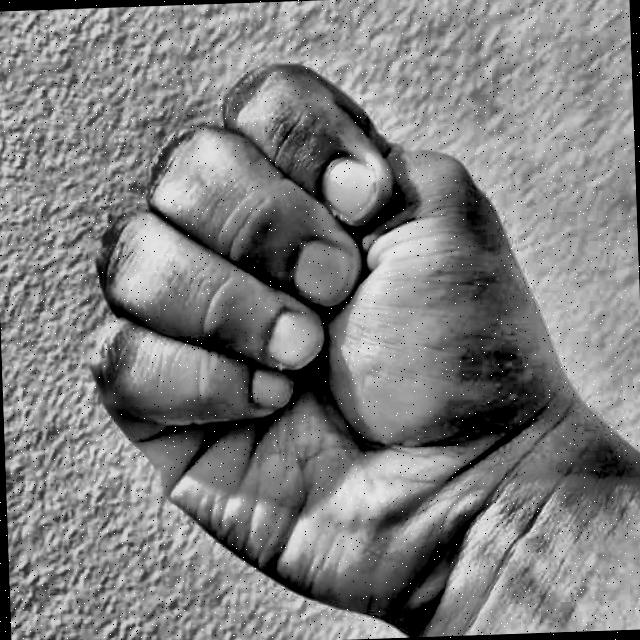To: (59, 42, 577, 633)
